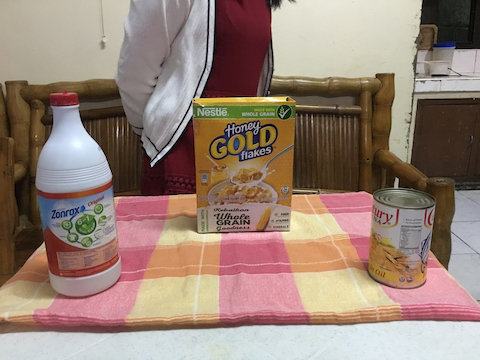bottle: (34, 87, 125, 298)
box: (191, 90, 301, 236)
can: (366, 183, 442, 290)
